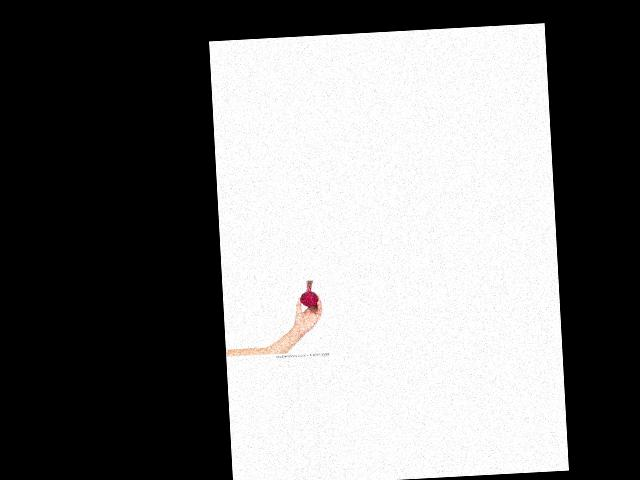beet: (299, 279, 319, 307)
